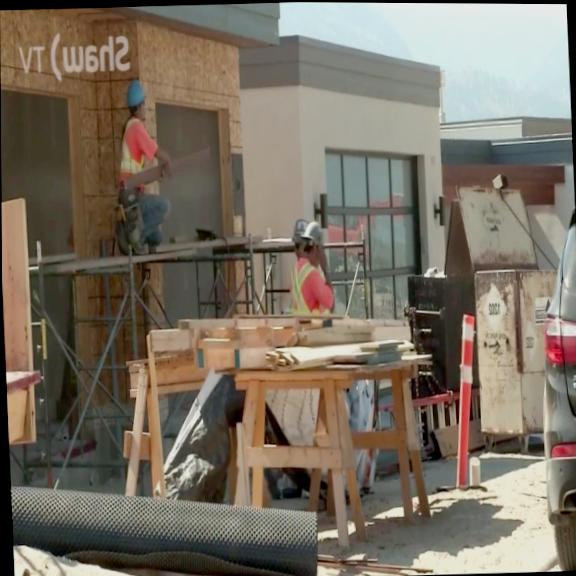safety_vest: (115, 113, 159, 190), (288, 256, 333, 316)
